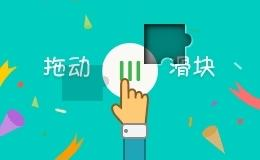target: (123, 2, 165, 44)
